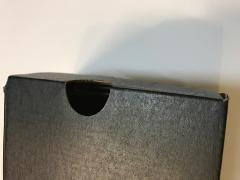cardboard: (0, 34, 238, 180)
